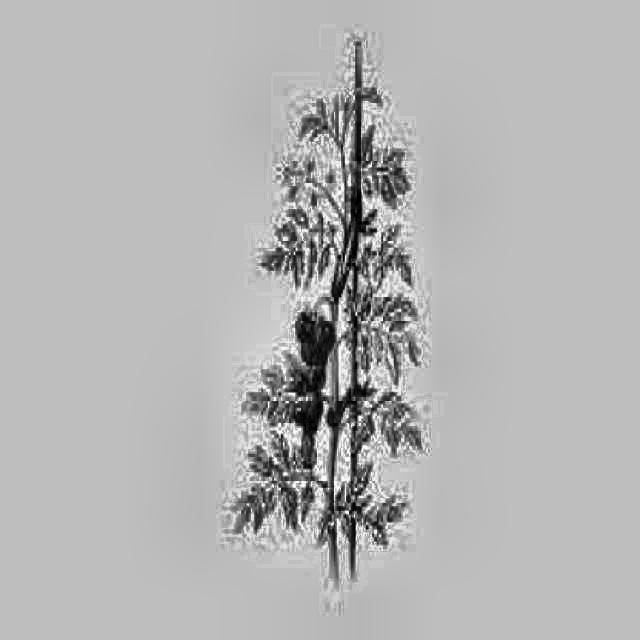plants: (231, 95, 438, 588)
